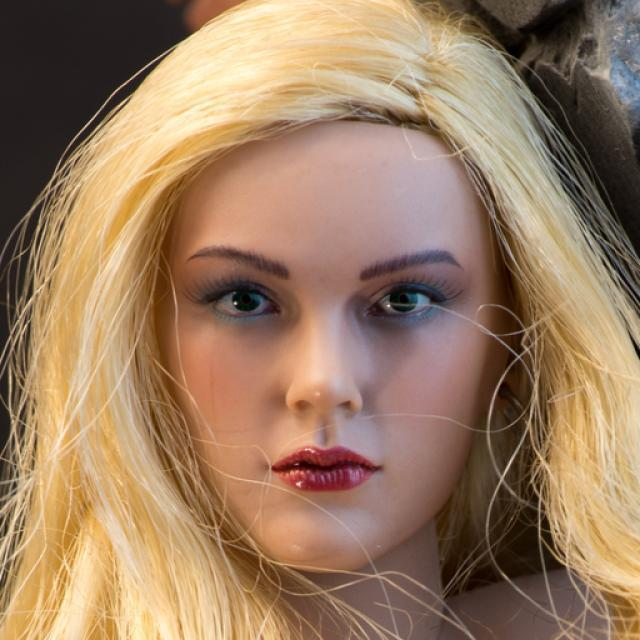0_rostro_limpio: (154, 0, 496, 574)
